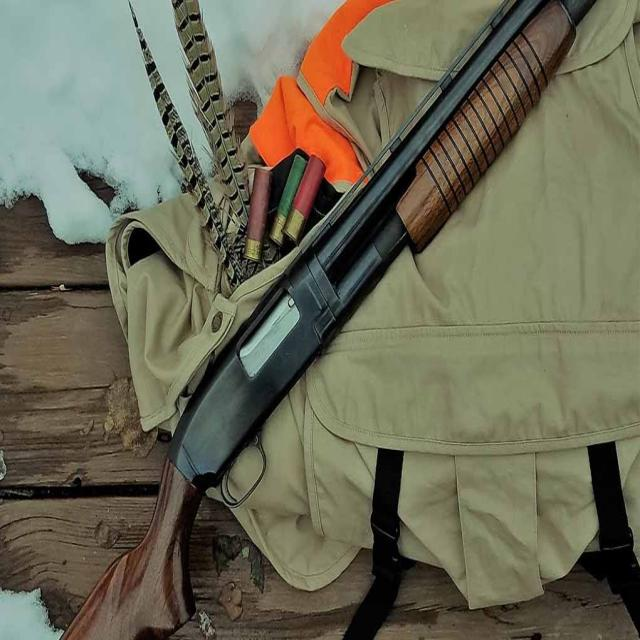ShotGun: (62, 0, 601, 640)
